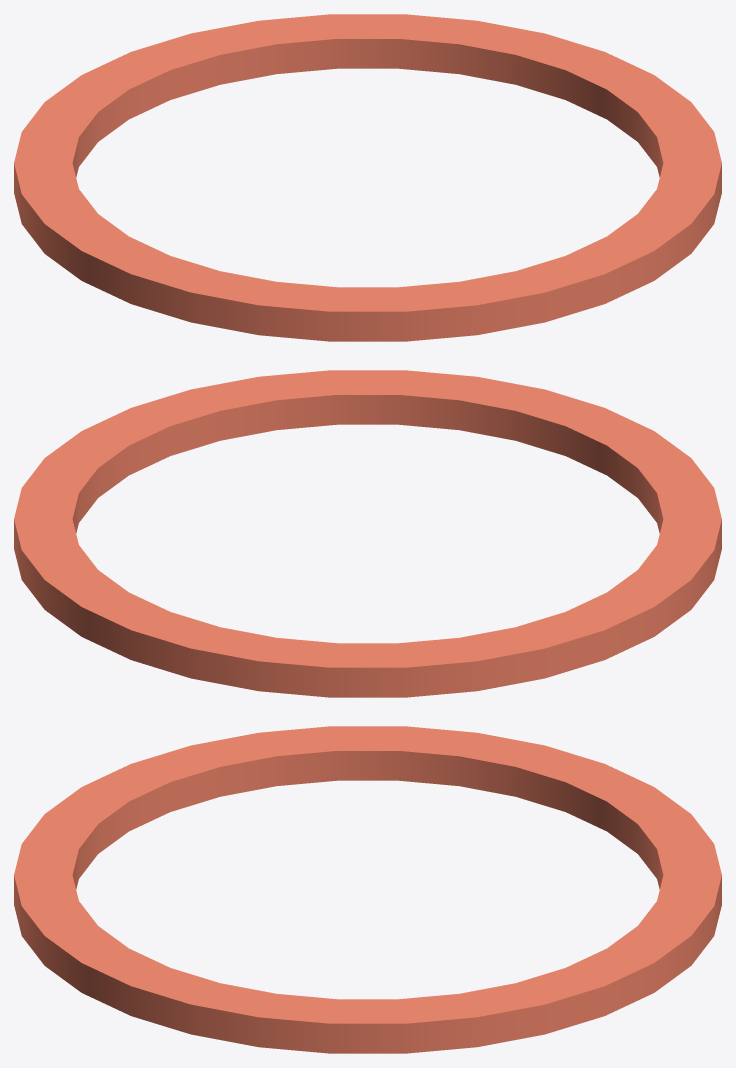
Rendered from quan-h.FBX.
The picture shows the model from 3 angles, top to bottom: view 1: azimuth 30°, elevation 25°; view 2: azimuth 150°, elevation 25°; view 3: azimuth 270°, elevation 25°; orthographic projection.
Parts seen in each view (by area): view 1: Tube001; view 2: Tube001; view 3: Tube001.
Part boxes in pixels (x1,y1,x2,y2): Tube001: [14, 14, 721, 341]; Tube001: [14, 370, 721, 697]; Tube001: [14, 726, 721, 1053].
Bounding box in the file's own units: 22.14 × 1.04 × 22.26.
1 material, 1 textured.
